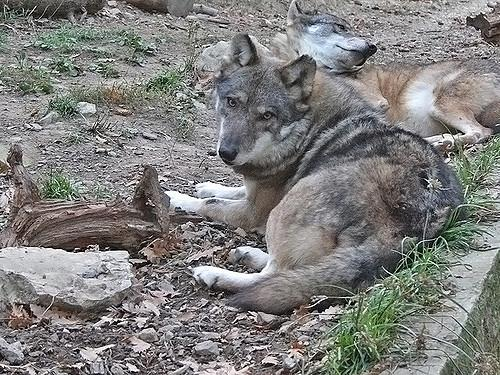Wolf: (164, 33, 470, 324), (276, 0, 499, 146)
